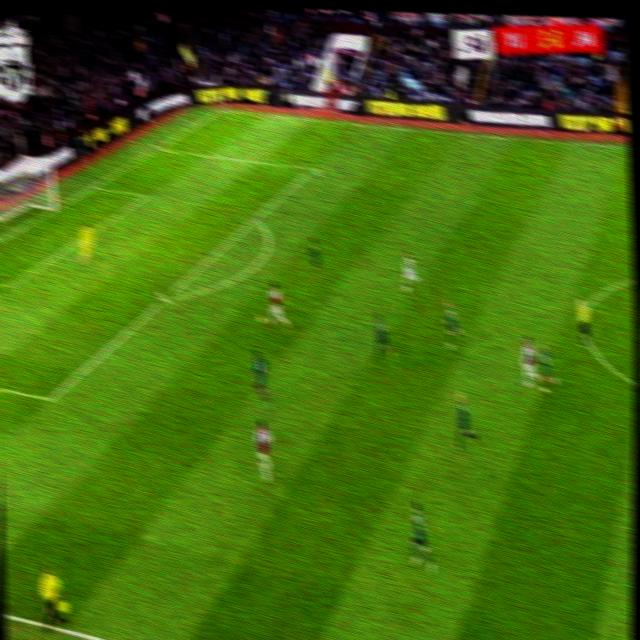bigarea_bottom_inner: (39, 385, 62, 409)
bigarea_top_inner: (303, 158, 322, 178)
bigarea_top_outter: (150, 139, 167, 156)
bottom_arc_area_intersection: (156, 286, 175, 310)
corner: (214, 102, 233, 117)
smallarea_bottom_inner: (0, 273, 21, 296)
smallarea_top_inner: (137, 184, 157, 206)
smallarea_top_outter: (86, 176, 105, 195)
top_arc_area_intersection: (247, 208, 266, 227)
